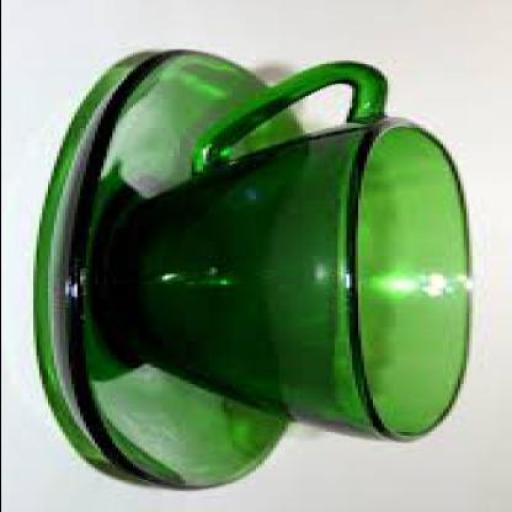glass: (102, 62, 474, 443), (32, 52, 308, 491)
